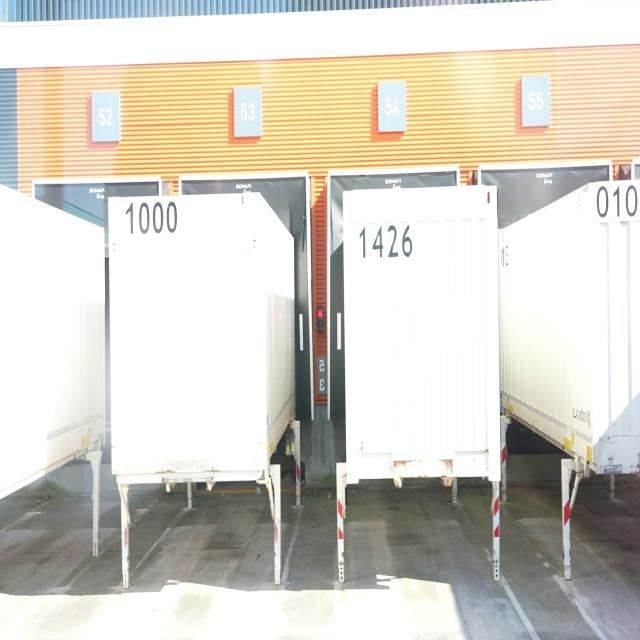Code: (357, 218, 414, 264), (123, 197, 179, 238)
